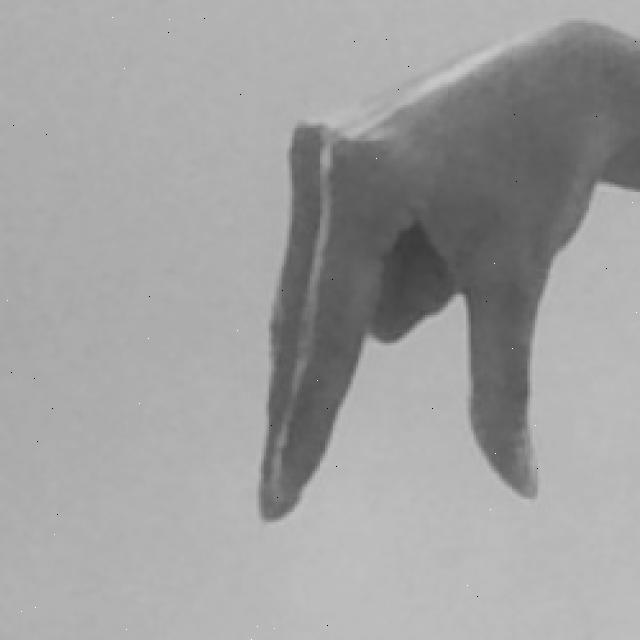Q: (246, 12, 640, 525)
